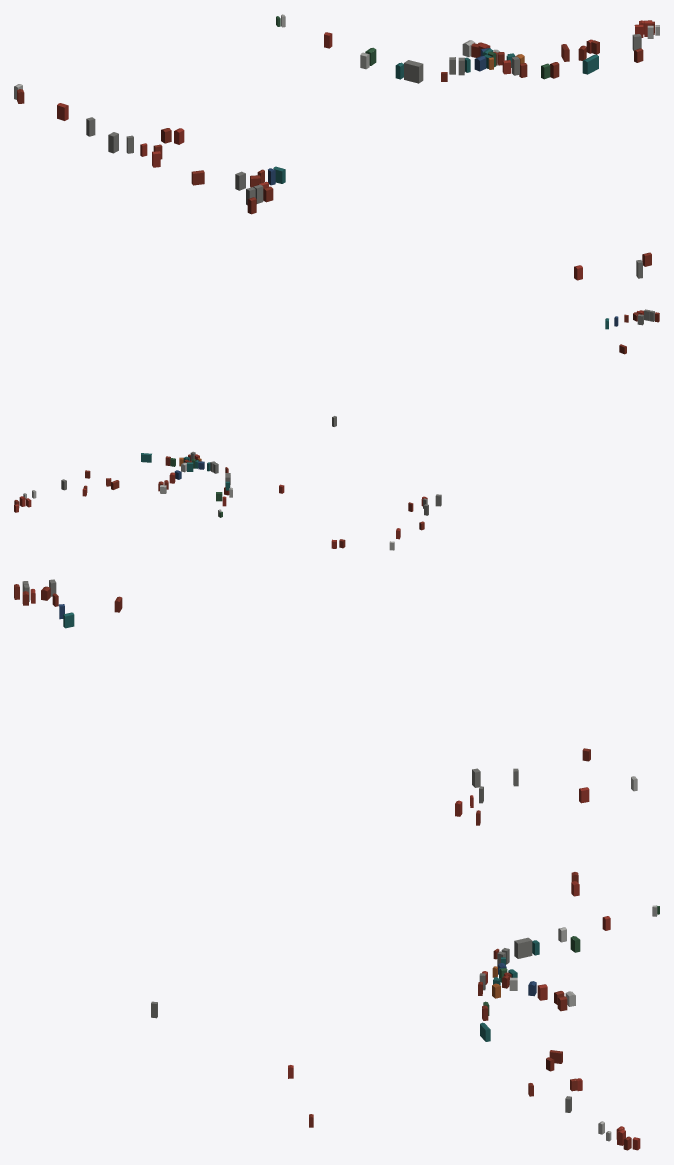
File: near-15-27365-14874.8f3f9eb8.glb
3 views of the same model, one above another, from view 1: azimuth 30°, elevation 25°; view 2: azimuth 150°, elevation 25°; view 3: azimuth 270°, elevation 25° (orthographic). The views are drawn at different scales.
Size of the model in its own units: 1180 by 500 by 975.
